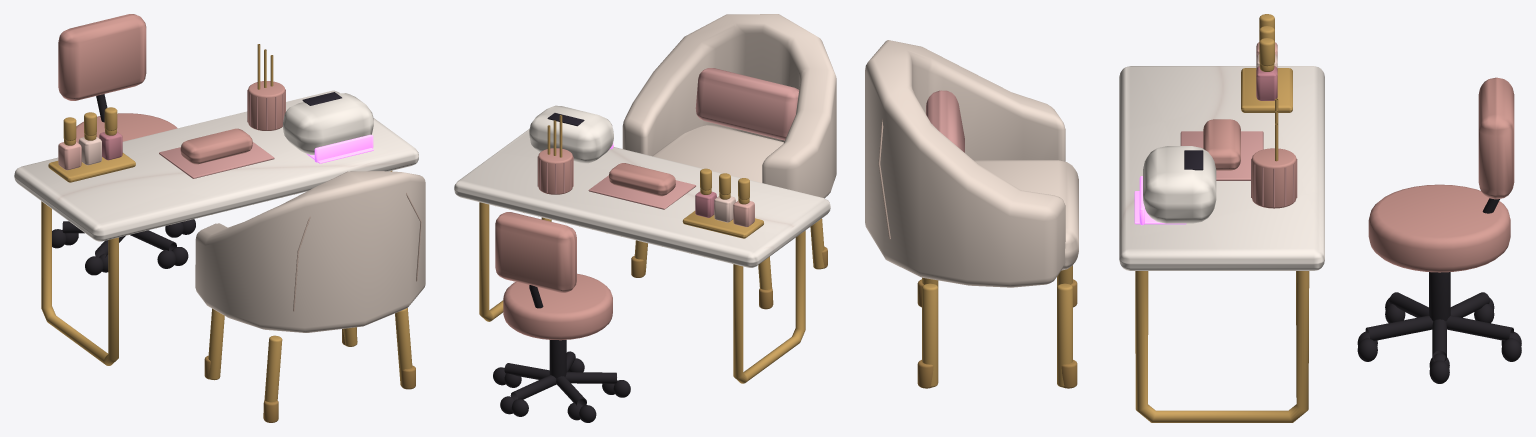
The model's file is manicure_station_v3_game.glb.
3 renders of one model, left to right at view 1: azimuth 30°, elevation 25°; view 2: azimuth 150°, elevation 25°; view 3: azimuth 270°, elevation 25°, orthographic. The views are drawn at different scales.
Parts seen in each view (by area): view 1: Batch_IvoryUpholstery_V3, Batch_WarmWhiteMarble_V3, Batch_BlushPinkLeather_V3, Batch_ChampagneGoldMetal_V3, Batch_WarmCreamPlastic_V3, Batch_MatteBlackMechanism_V3, Batch_DustyRoseFabric_V3, Batch_UVLampPurpleGlow_V3, Batch_BrushedBrass_V3, Batch_polish_bottle_1_tint, Batch_polish_bottle_3_tint, Batch_polish_bottle_2_tint (+1 smaller); view 2: Batch_IvoryUpholstery_V3, Batch_WarmWhiteMarble_V3, Batch_BlushPinkLeather_V3, Batch_ChampagneGoldMetal_V3, Batch_DustyRoseFabric_V3, Batch_MatteBlackMechanism_V3, Batch_WarmCreamPlastic_V3, Batch_BrushedBrass_V3, Batch_polish_bottle_1_tint, Batch_polish_bottle_2_tint, Batch_polish_bottle_3_tint; view 3: Batch_IvoryUpholstery_V3, Batch_WarmWhiteMarble_V3, Batch_BlushPinkLeather_V3, Batch_ChampagneGoldMetal_V3, Batch_MatteBlackMechanism_V3, Batch_WarmCreamPlastic_V3, Batch_DustyRoseFabric_V3, Batch_BrushedBrass_V3, Batch_polish_bottle_3_tint.
Part boxes in pixels (x1,y1,x2,y2): Batch_IvoryUpholstery_V3: (195,171,425,332); Batch_WarmWhiteMarble_V3: (14,90,418,241); Batch_BlushPinkLeather_V3: (58,14,285,164); Batch_ChampagneGoldMetal_V3: (41,44,412,418); Batch_WarmCreamPlastic_V3: (283,93,373,154); Batch_MatteBlackMechanism_V3: (52,94,195,275); Batch_DustyRoseFabric_V3: (159,89,285,178); Batch_UVLampPurpleGlow_V3: (306,134,373,163); Batch_BrushedBrass_V3: (204,327,415,422); Batch_polish_bottle_1_tint: (58,141,81,170); Batch_polish_bottle_3_tint: (99,131,122,160); Batch_polish_bottle_2_tint: (78,137,101,165); Batch_IvoryUpholstery_V3: (622,14,836,198); Batch_WarmWhiteMarble_V3: (454,129,830,267); Batch_BlushPinkLeather_V3: (495,148,675,340); Batch_ChampagneGoldMetal_V3: (479,115,824,383); Batch_DustyRoseFabric_V3: (537,68,798,209); Batch_MatteBlackMechanism_V3: (493,285,630,422); Batch_WarmCreamPlastic_V3: (529,105,613,163); Batch_BrushedBrass_V3: (631,246,827,309); Batch_polish_bottle_1_tint: (733,201,754,227); Batch_polish_bottle_2_tint: (714,196,735,222); Batch_polish_bottle_3_tint: (695,191,716,217); Batch_IvoryUpholstery_V3: (865,40,1078,287); Batch_WarmWhiteMarble_V3: (1119,66,1324,270); Batch_BlushPinkLeather_V3: (1203,77,1514,272); Batch_ChampagneGoldMetal_V3: (922,14,1309,422); Batch_MatteBlackMechanism_V3: (1357,198,1521,383); Batch_WarmCreamPlastic_V3: (1143,146,1216,223); Batch_DustyRoseFabric_V3: (926,90,1297,207); Batch_BrushedBrass_V3: (917,279,1077,388); Batch_polish_bottle_3_tint: (1256,66,1277,100).
Size of the model in its own units: 1.91 by 1.35 by 2.78.
14 materials, 1 textured.
